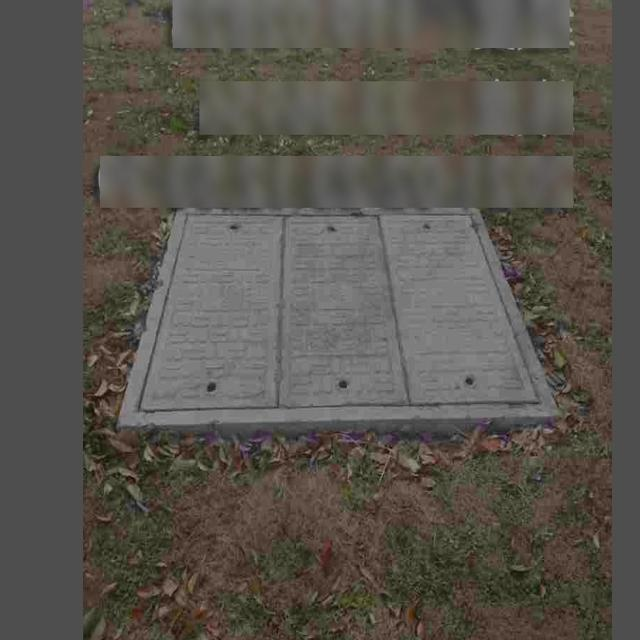good: (115, 205, 562, 433)
